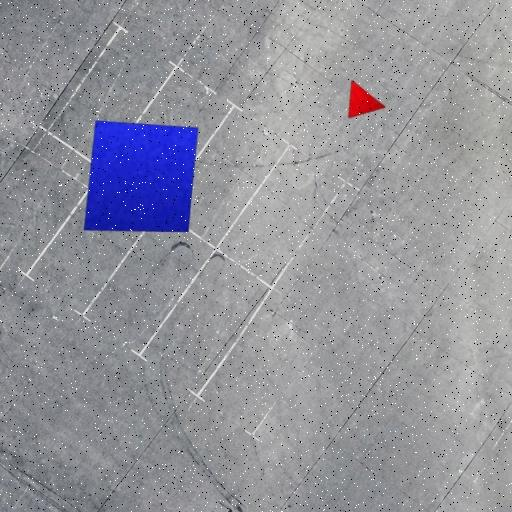BLUE_SQUARE: (84, 120, 198, 233)
